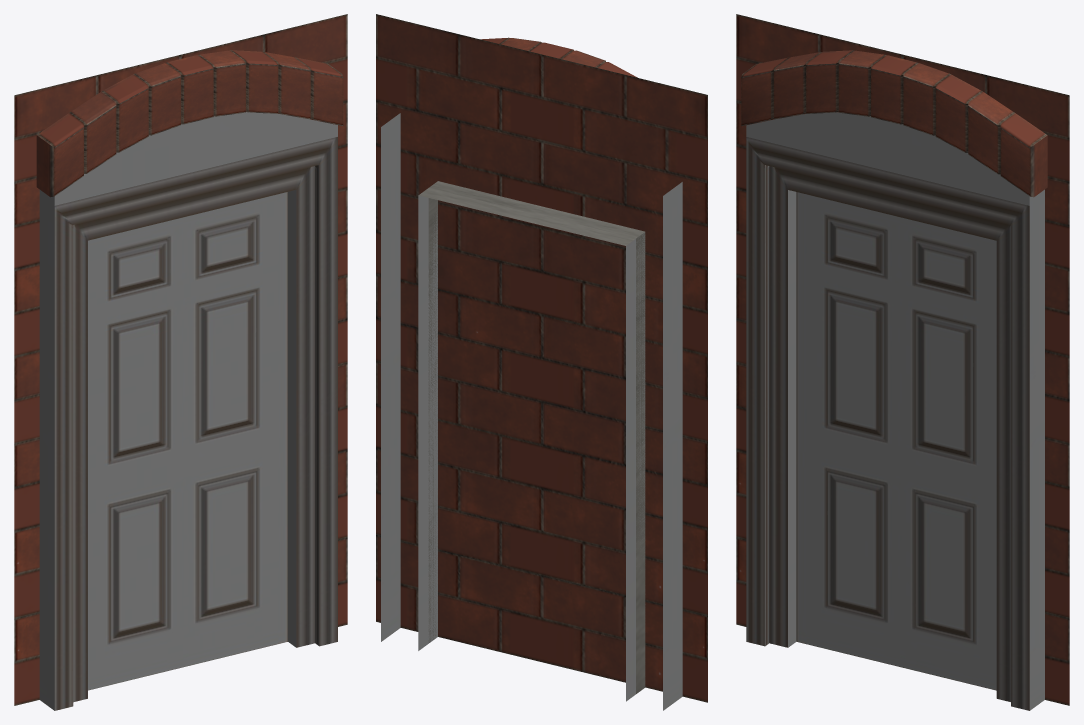
File: BRICK_DOOR_TWO_BY_THREE.fbx
3 renders of one model, left to right at view 1: azimuth 30°, elevation 25°; view 2: azimuth 150°, elevation 25°; view 3: azimuth 330°, elevation 25°, orthographic.
Parts seen in each view (by area): view 1: Brick_DOOR_TWO_BY_THREE3; view 2: Brick_DOOR_TWO_BY_THREE3; view 3: Brick_DOOR_TWO_BY_THREE3.
Boxes of the visible parts, x1,y1,x2,y2 form: Brick_DOOR_TWO_BY_THREE3: [14, 14, 347, 710]; Brick_DOOR_TWO_BY_THREE3: [376, 14, 707, 710]; Brick_DOOR_TWO_BY_THREE3: [736, 14, 1069, 710].
Bounding box in the file's own units: 2 × 3.5 × 0.3867.
